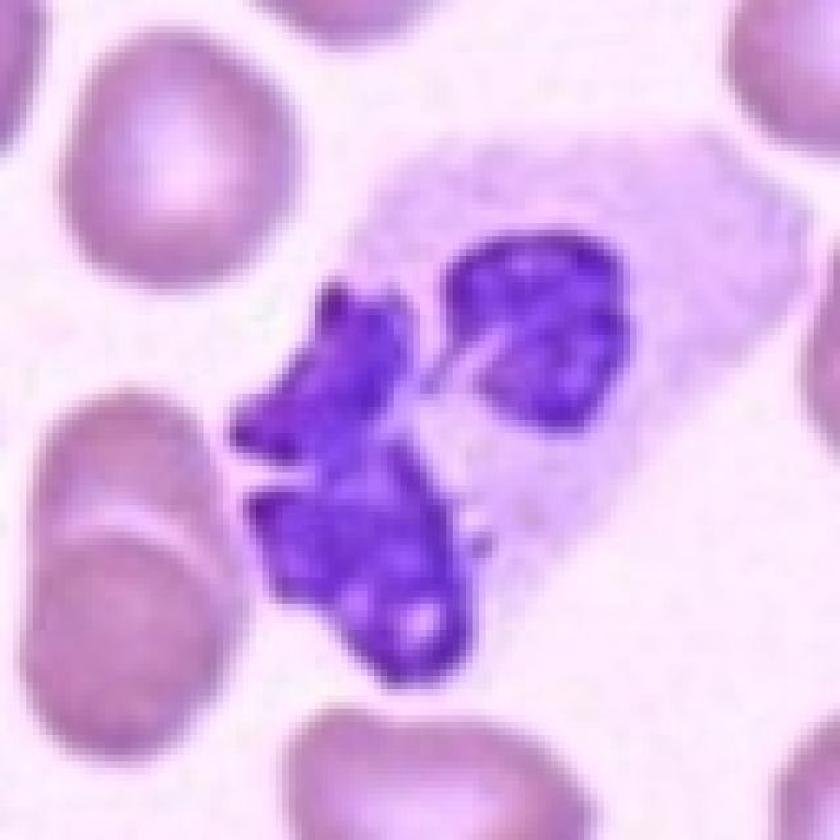neutrophil: (114, 98, 798, 726)
